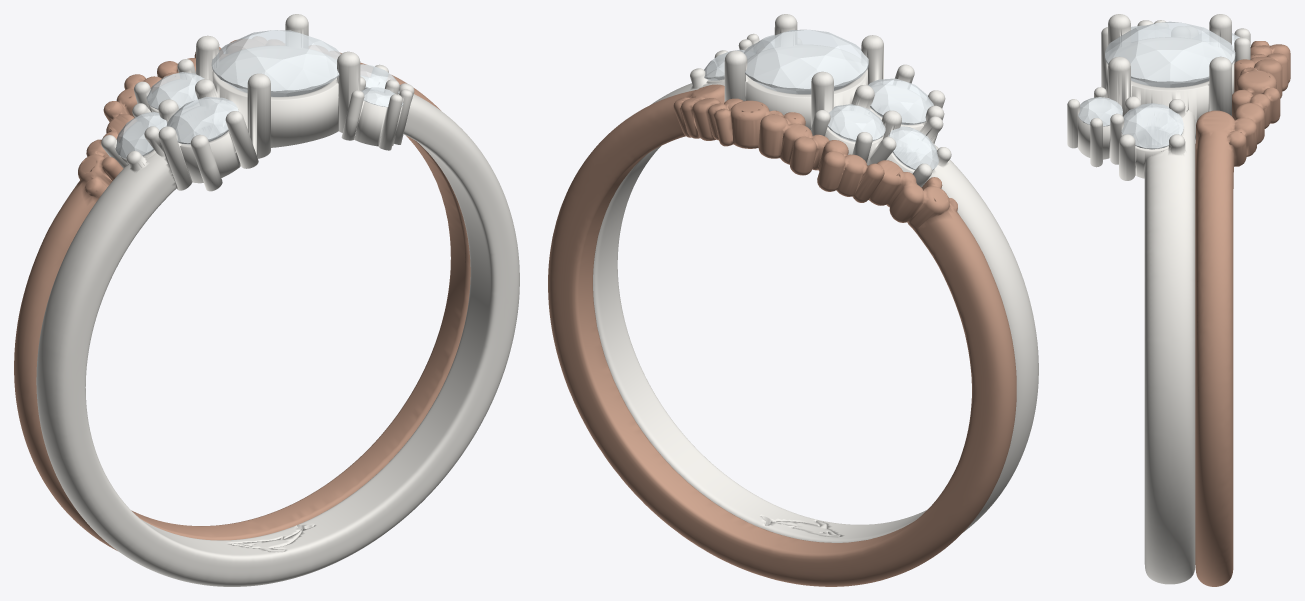
The model's file is ring-rose-gold.glb.
The picture shows the model from 3 angles, left to right: view 1: azimuth 30°, elevation 25°; view 2: azimuth 150°, elevation 25°; view 3: azimuth 270°, elevation 25°; orthographic projection. The views are drawn at different scales.
Visible parts, largest first — view 1: silver, gold, diamonds004, diamonds003, diamonds001, diamonds002; view 2: gold, silver, diamonds004, diamonds003, diamonds001, diamonds002; view 3: silver, gold, diamonds004, diamonds, diamonds005.
Part boxes in pixels (x1=…): silver: x1=36, y1=14, x2=519, y2=586; gold: x1=14, y1=37, x2=470, y2=550; diamonds004: x1=211, y1=30, x2=340, y2=96; diamonds003: x1=166, y1=96, x2=238, y2=144; diamonds001: x1=146, y1=72, x2=204, y2=109; diamonds002: x1=115, y1=112, x2=167, y2=158; gold: x1=548, y1=84, x2=1016, y2=586; silver: x1=593, y1=14, x2=1038, y2=542; diamonds004: x1=743, y1=29, x2=868, y2=94; diamonds003: x1=868, y1=78, x2=933, y2=124; diamonds001: x1=827, y1=104, x2=885, y2=141; diamonds002: x1=888, y1=126, x2=938, y2=170; silver: x1=1067, y1=14, x2=1250, y2=584; gold: x1=1195, y1=41, x2=1290, y2=586; diamonds004: x1=1105, y1=21, x2=1235, y2=87; diamonds: x1=1121, y1=103, x2=1183, y2=149; diamonds005: x1=1078, y1=97, x2=1122, y2=126.
Size of the model in its own units: 0.022 by 0.0236 by 0.00908.
